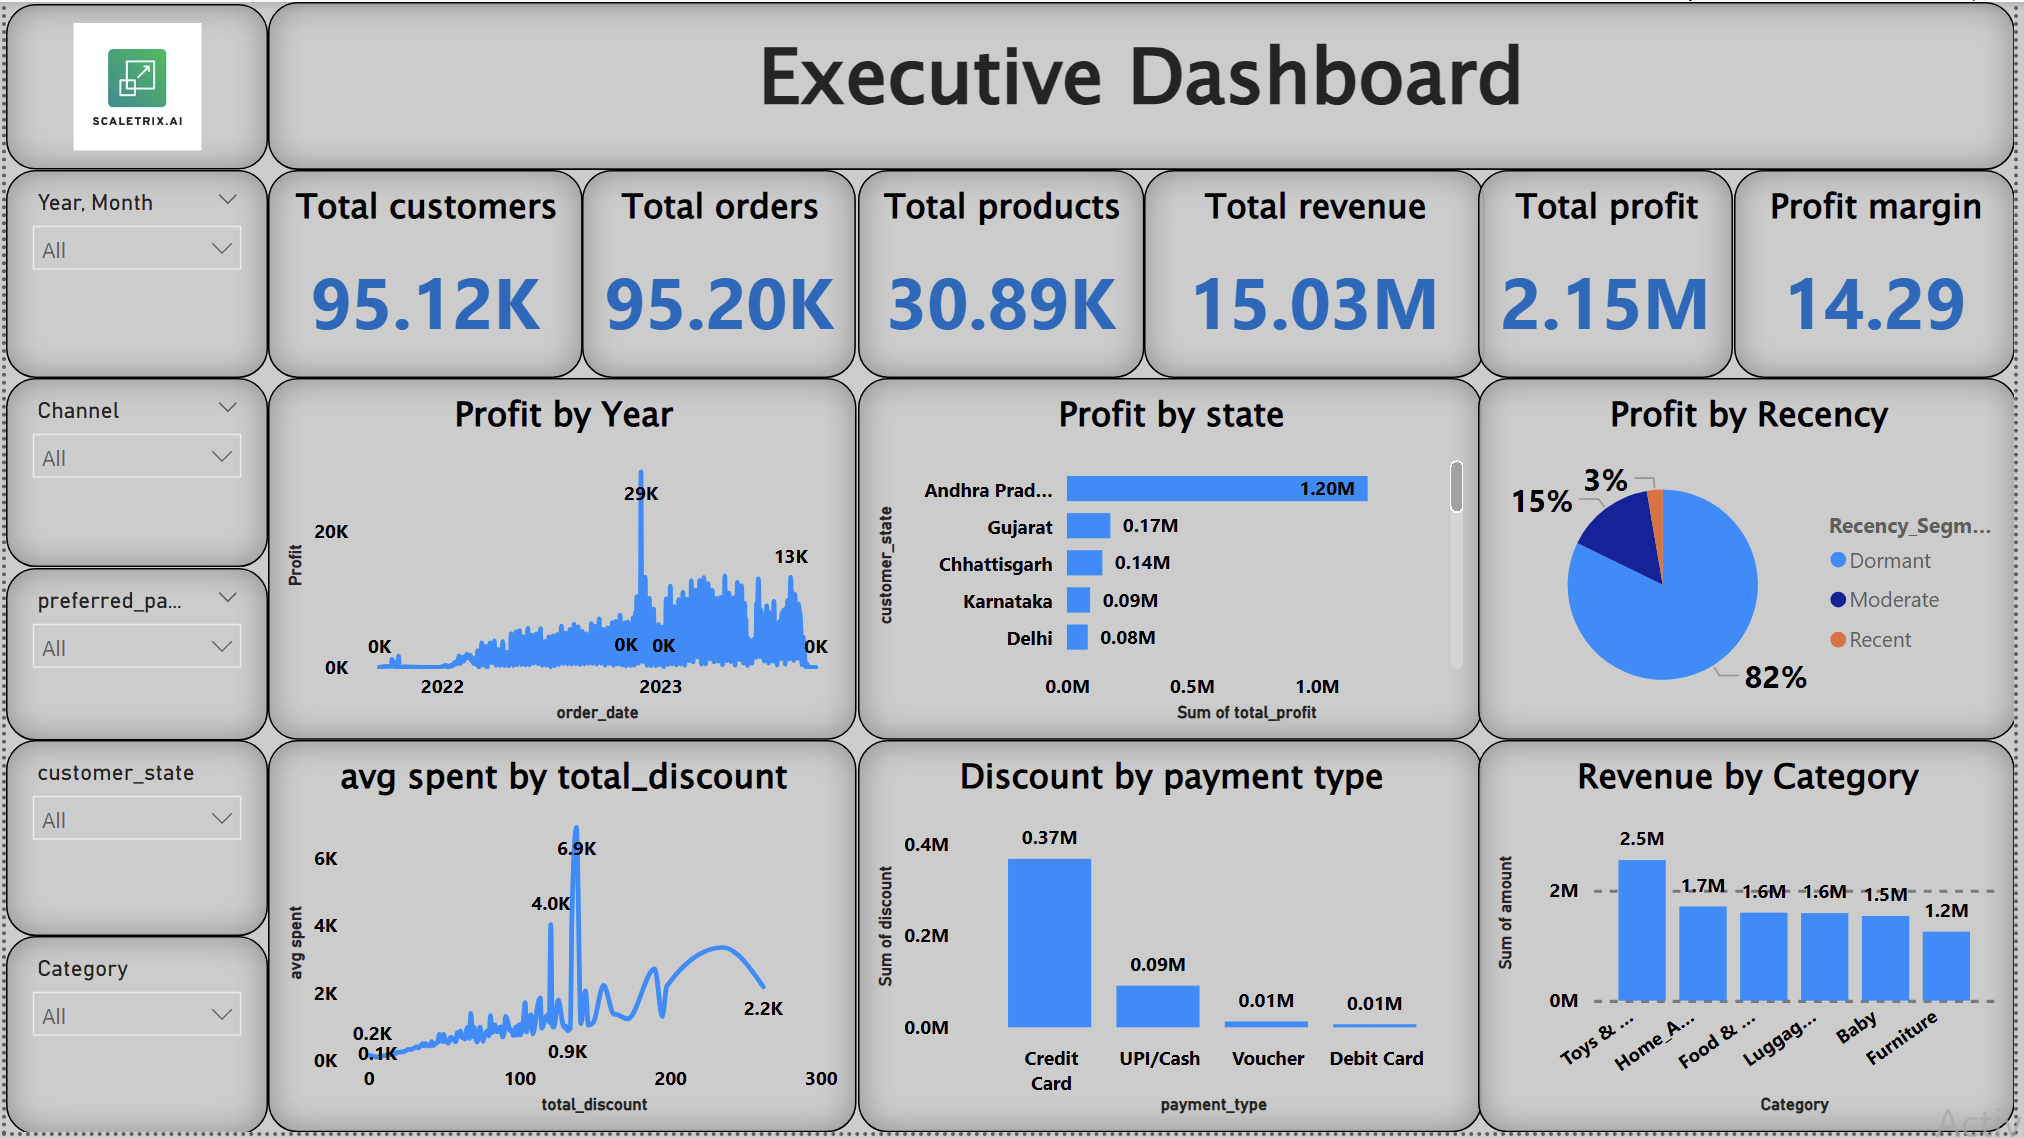

The dashboard page shown, as its layout file describes it:
{"tool":"powerbi","page":{"name":"Executive Dashboard","canvas":[1280,720],"ordinal":0},"visuals":[{"type":"textbox","box":[167.2,0,1113.1,106.9],"z":0},{"type":"image","box":[0,1.5,167.2,105.4],"z":1000},{"type":"slicer","fields":{"Values":["Order360new.order_date.Variation.Date Hierarchy.Year","Order360new.order_date.Variation.Date Hierarchy.Month"]},"box":[0,106.9,167.2,132.6],"z":2000},{"type":"slicer","fields":{"Values":["Order360new.Channel"]},"box":[0,239.5,167.2,120.5],"z":3000},{"type":"slicer","fields":{"Values":["Customer360new.preferred_payment_method"]},"box":[0,360,167.2,110],"z":4000},{"type":"slicer","fields":{"Values":["Customer360new.customer_state"]},"box":[0,470,167.2,125],"z":5000},{"type":"slicer","fields":{"Values":["Productsinfo.Category"]},"box":[0,595,167.2,126.5],"z":6000},{"type":"card","title":"Total orders","fields":{"Values":["CountNonNull(Order360new.order_id)"]},"box":[367.5,106.9,174.7,132.6],"z":7000},{"type":"card","title":"Total customers","fields":{"Values":["CountNonNull(Customer360new.Custid)"]},"box":[167.2,106.9,200.3,132.6],"z":8000},{"type":"card","title":"Total products","fields":{"Values":["Count(cleanedOrders.product_id)"]},"box":[542.3,106.9,182.3,132.6],"z":9000},{"type":"card","title":"Total revenue","fields":{"Values":["Sum(Order360new.amount)"]},"box":[724.5,106.9,216.9,132.6],"z":10000},{"type":"card","title":"Total profit","fields":{"Values":["Sum(Order360new.total_profit)"]},"box":[938.4,106.9,162.7,132.6],"z":11000},{"type":"card","title":"Profit margin","fields":{"Values":["Customer360new.Profit margin"]},"box":[1101.1,106.9,179.2,132.6],"z":12000},{"type":"lineChart","title":"Profit by Year","fields":{"Y":["Sum(Order360new.total_profit)"],"Category":["Order360new.order_date Hierarchy.order_date"]},"box":[167.2,239.5,375.1,230.5],"z":13000},{"type":"barChart","title":"Profit by state","fields":{"Category":["Customer360new.customer_state"],"Y":["Sum(Customer360new.total_profit)"]},"box":[542.3,239.5,397.7,230.5],"z":14000},{"type":"lineChart","fields":{"Y":["Customer360new.avg spent"],"Category":["Customer360new.total_discount"]},"box":[167.2,470,375.1,250],"z":15000},{"type":"pieChart","title":"Profit by Recency","fields":{"Category":["Customer360new.Recency_Segment"],"Y":["Sum(Customer360new.total_profit)"]},"box":[938.4,239.5,343.4,230.5],"z":16000},{"type":"columnChart","title":"Discount by payment type","fields":{"Category":["Order360new.payment_type"],"Y":["Sum(Order360new.discount)"]},"box":[542.3,470,397.7,250],"z":17000},{"type":"columnChart","title":"Revenue by Category","fields":{"Category":["Productsinfo.Category"],"Y":["Sum(Order360new.amount)"]},"box":[938.4,470,341.9,250],"z":18000}]}

Visuals, with their boxes in screenshot pixels (x1, y1, x2, y2), scaled from the page's 1280x720 canvas onto the 2024x1138 screenshot:
textbox: rect(264, 0, 2023, 169)
image: rect(0, 2, 264, 169)
slicer - Order360new.order_date.Variation.Date Hierarchy.Year x Order360new.order_date.Variation.Date Hierarchy.Month: rect(0, 169, 264, 379)
slicer - Order360new.Channel: rect(0, 379, 264, 569)
slicer - Customer360new.preferred_payment_method: rect(0, 569, 264, 743)
slicer - Customer360new.customer_state: rect(0, 743, 264, 940)
slicer - Productsinfo.Category: rect(0, 940, 264, 1137)
"Total orders" card: rect(581, 169, 857, 379)
"Total customers" card: rect(264, 169, 581, 379)
"Total products" card: rect(858, 169, 1146, 379)
"Total revenue" card: rect(1146, 169, 1489, 379)
"Total profit" card: rect(1484, 169, 1741, 379)
"Profit margin" card: rect(1741, 169, 2023, 379)
"Profit by Year" lineChart: rect(264, 379, 858, 743)
"Profit by state" barChart: rect(858, 379, 1486, 743)
lineChart - Customer360new.avg spent x Customer360new.total_discount: rect(264, 743, 858, 1137)
"Profit by Recency" pieChart: rect(1484, 379, 2023, 743)
"Discount by payment type" columnChart: rect(858, 743, 1486, 1137)
"Revenue by Category" columnChart: rect(1484, 743, 2023, 1137)
